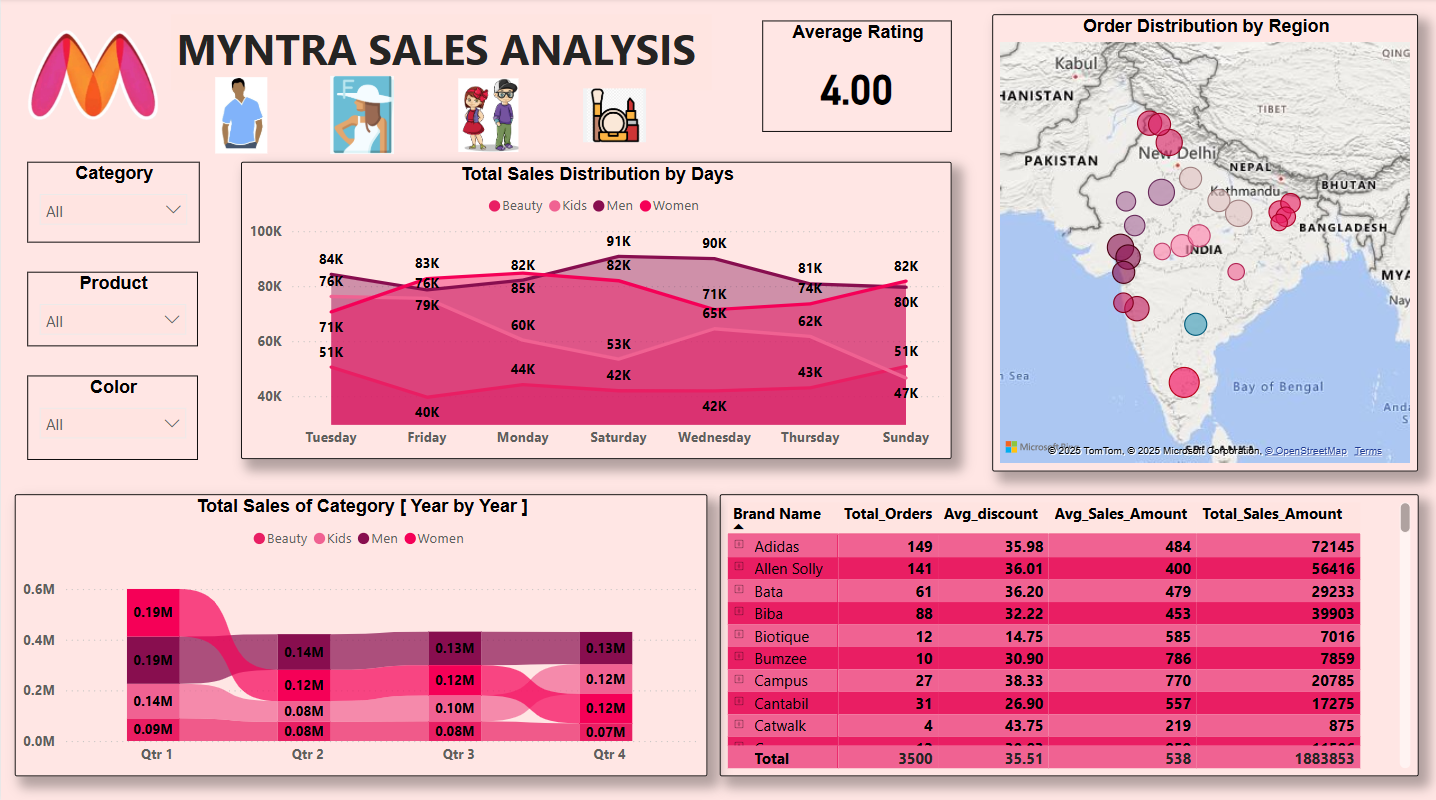

Layout of this report page (visuals, bound fields, positions):
{"tool":"powerbi","page":{"name":"Dashboard 2","canvas":[1280,720],"ordinal":1},"visuals":[{"type":"areaChart","title":"Total Sales Distribution by Days ","fields":{"Category":["DateTable.Day of Week"],"Y":["'Measures'.Total_Sales_Amount"],"Series":["dim_products.Category"]},"box":[213.5,146,633.1,265],"z":0},{"type":"ribbonChart","title":"Total Sales of Category [ Year by Year ]","fields":{"Category":["DateTable.Date.Variation.Date Hierarchy.Year","DateTable.Date.Variation.Date Hierarchy.Quarter","DateTable.Date.Variation.Date Hierarchy.Month","DateTable.Date.Variation.Date Hierarchy.Day"],"Y":["Sum(fact_orders.Sales Amount )"],"Series":["dim_products.Category"]},"box":[12.3,441.7,617.2,251.5],"z":1000},{"type":"pivotTable","fields":{"Rows":["dim_products.Brand Name","dim_products.Product Name"],"Values":["'Measures'.Total_Orders","'Measures'.Avg_discount","'Measures'.Avg_Sales_Amount","'Measures'.Total_Sales_Amount"]},"box":[640.5,441.7,622.1,251.5],"z":2000},{"type":"map","title":"Order Distribution by Region","fields":{"Category":["dim_customers.City"],"Series":["dim_customers.State"],"Size":["'Measures'.Total_Orders"]},"box":[883,14.4,379.4,406.9],"z":3000},{"type":"textbox","box":[151.5,14.4,481.9,67.8],"z":4000},{"type":"image","box":[174.6,65.5,77.9,77.9],"z":5000},{"type":"image","box":[277,64.7,88,79.4],"z":6000},{"type":"image","box":[389.5,66.9,89.5,75],"z":7000},{"type":"image","box":[503.5,75.6,86.6,57.7],"z":8000},{"type":"image","box":[16,19.6,135,99.4],"z":9000},{"type":"slicer","title":"Category","fields":{"Values":["dim_products.Category"]},"box":[23.3,146,153.4,72.4],"z":10000},{"type":"slicer","title":"Product","fields":{"Values":["dim_products.Product Name"]},"box":[23.3,244.2,152.1,66.3],"z":11000},{"type":"slicer","title":"Color","fields":{"Values":["dim_products.Color"]},"box":[23.3,336.2,152.1,74.8],"z":12000},{"type":"card","title":"Average Rating","fields":{"Values":["'Measures'.Avg_rating"]},"box":[678.1,20.2,168.8,99.6],"z":13000}]}

Visuals, with their boxes in screenshot pixels (x1, y1, x2, y2), scaled from the page's 1280x720 canvas onto the 1436x800 screenshot:
"Total Sales Distribution by Days " areaChart: (240, 162, 950, 457)
"Total Sales of Category [ Year by Year ]" ribbonChart: (14, 491, 706, 770)
pivotTable - dim_products.Brand Name x dim_products.Product Name: (719, 491, 1416, 770)
"Order Distribution by Region" map: (991, 16, 1416, 468)
textbox: (170, 16, 711, 91)
image: (196, 73, 283, 159)
image: (311, 72, 409, 160)
image: (437, 74, 537, 158)
image: (565, 84, 662, 148)
image: (18, 22, 169, 132)
"Category" slicer: (26, 162, 198, 243)
"Product" slicer: (26, 271, 197, 345)
"Color" slicer: (26, 374, 197, 457)
"Average Rating" card: (761, 22, 950, 133)
